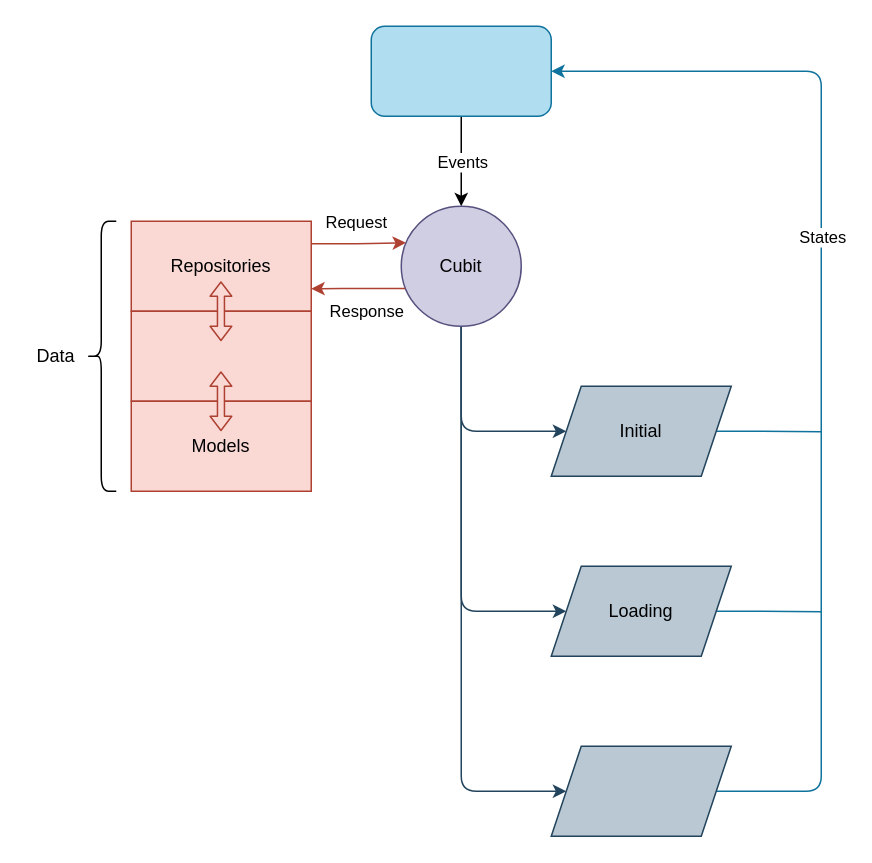
This 872x863 diagram has some shape labels left out. The centre of each missing label's shape, as x and y in pixels:
"Data Providers" belongs at point 220,355.
"Error" belongs at point 640,790.
"Home Screen" belongs at point 460,70.
